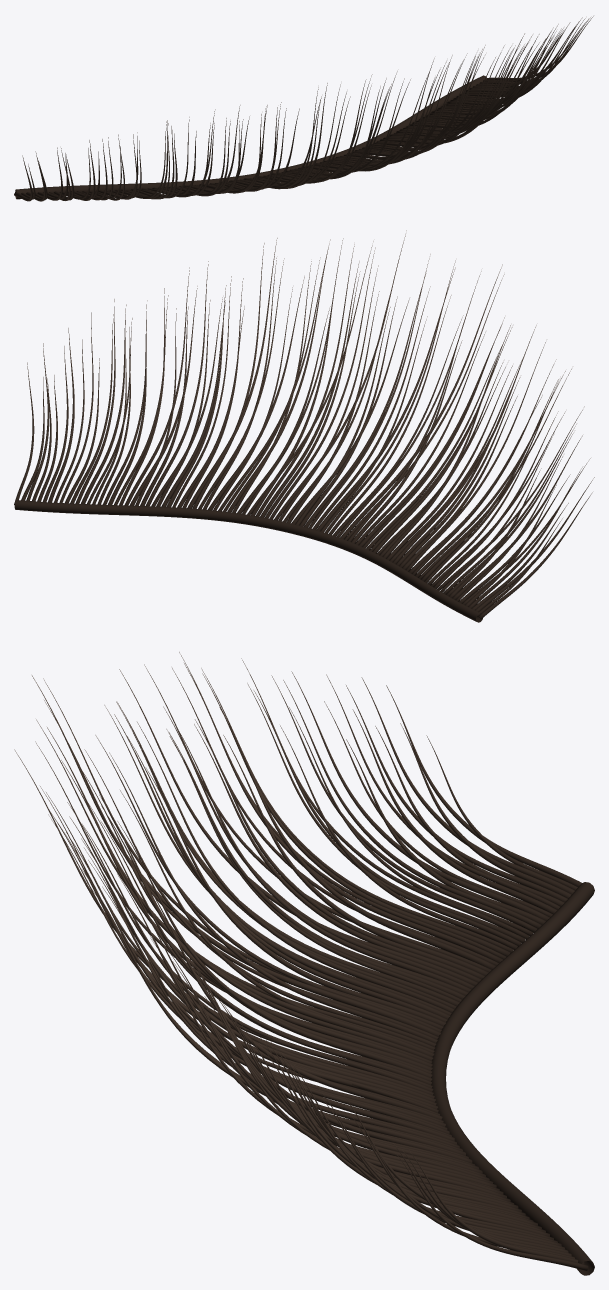
File: wispy_left.glb
The picture shows the model from 3 angles, top to bottom: view 1: azimuth 30°, elevation 25°; view 2: azimuth 150°, elevation 25°; view 3: azimuth 270°, elevation 25°; orthographic projection. The views are drawn at different scales.
Parts seen in each view (by area): view 1: lash_left; view 2: lash_left; view 3: lash_left.
Boxes of the visible parts, x1,y1,x2,y2 form: lash_left: (14, 16, 593, 201); lash_left: (14, 230, 594, 622); lash_left: (14, 652, 594, 1275).
Size of the model in its own units: 3.65 by 1.28 by 1.94.
